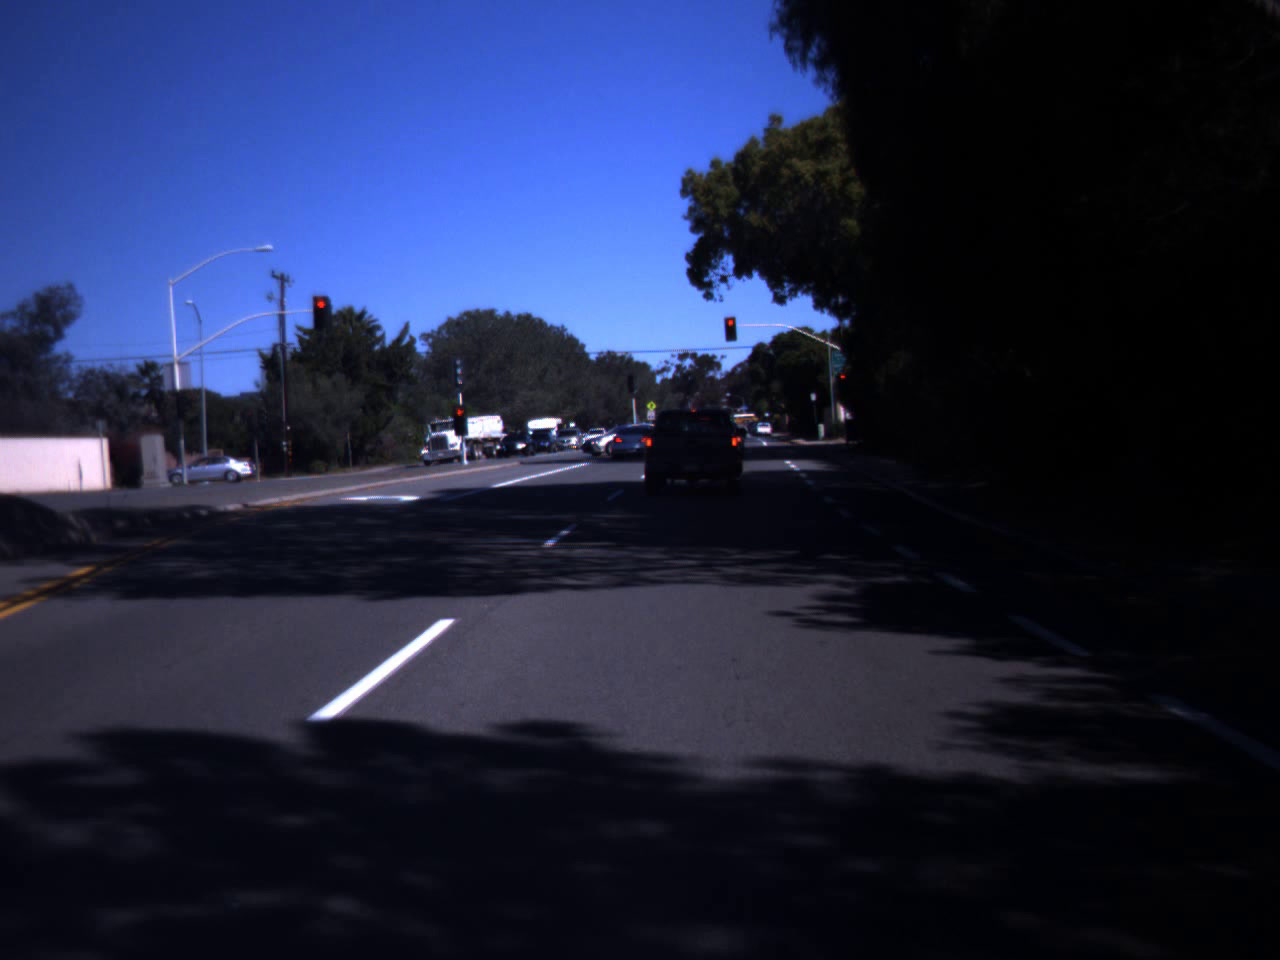stop: (312, 299, 330, 326), (723, 317, 738, 339), (453, 408, 465, 426)
